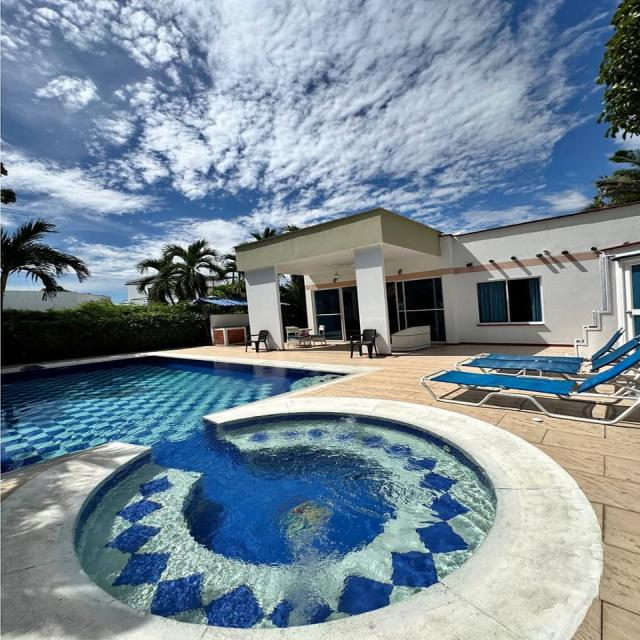Fachada: (237, 201, 640, 357)
